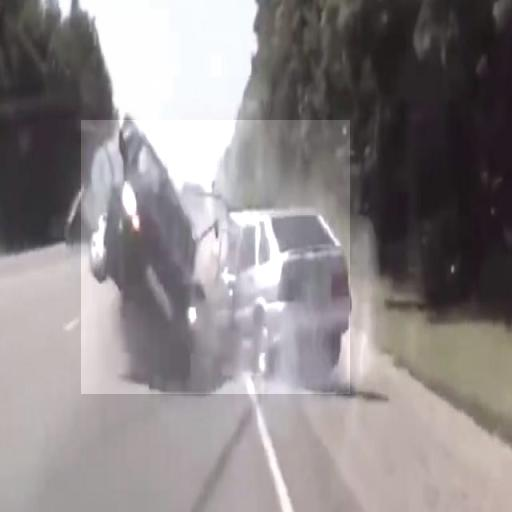小汽车撞小汽车: (81, 120, 350, 394)
